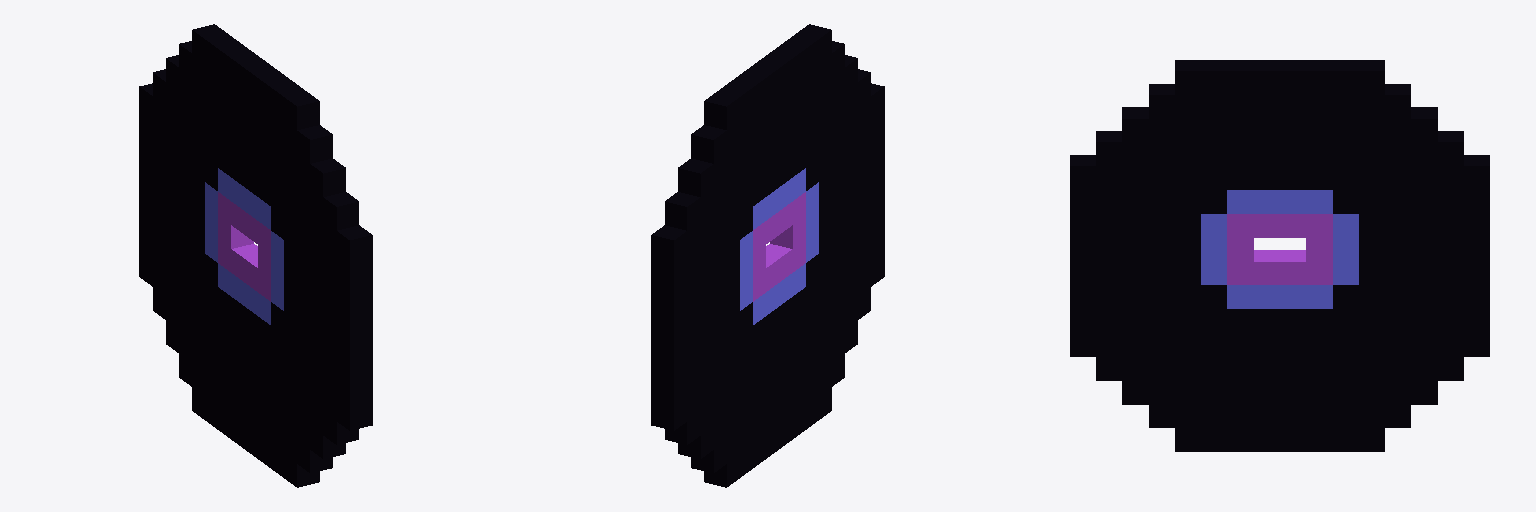
3 views of the same model, side by side, from view 1: azimuth 30°, elevation 25°; view 2: azimuth 150°, elevation 25°; view 3: azimuth 270°, elevation 25° (orthographic).
Parts seen in each view (by area): view 1: object 1; view 2: object 1; view 3: object 1.
Part boxes in pixels (x1,y1,x2,y2): object 1: (139, 24, 372, 487); object 1: (651, 24, 884, 487); object 1: (1070, 60, 1489, 451).
Bounding box in the file's own units: 0.1 × 1.6 × 1.6.
Materials: 1 (1 with a texture image).